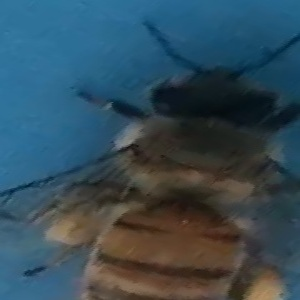bee: (12, 19, 295, 300)
